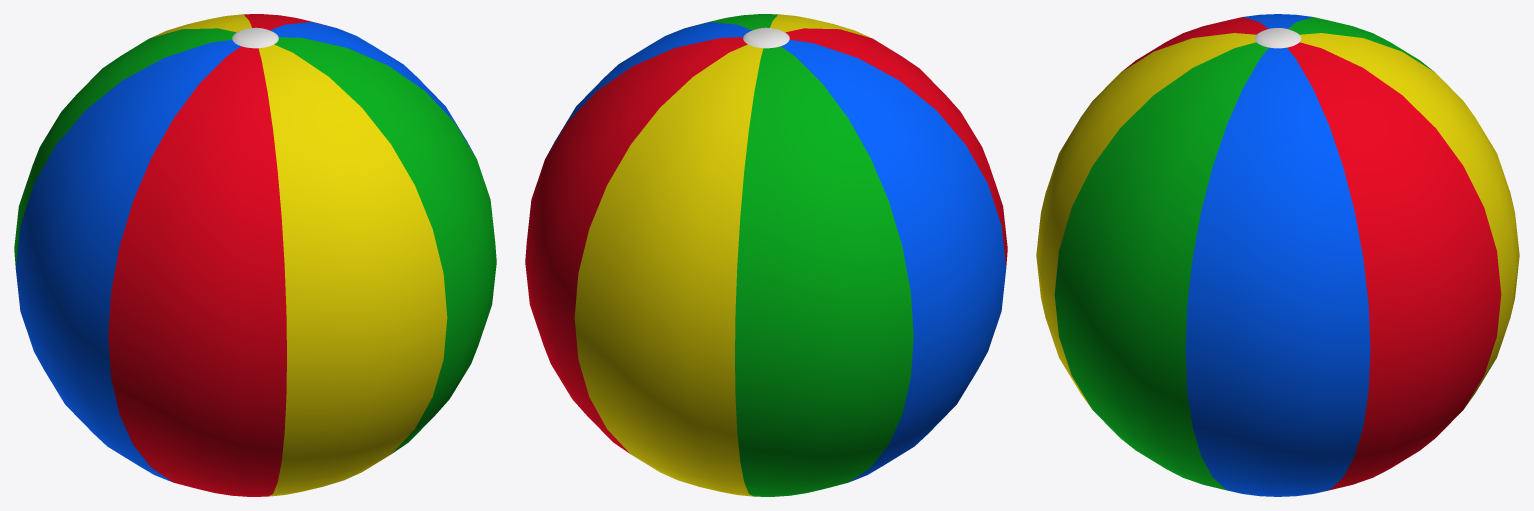
The model's file is BeachBall.glb.
3 renders of one model, left to right at view 1: azimuth 30°, elevation 25°; view 2: azimuth 150°, elevation 25°; view 3: azimuth 270°, elevation 25°, orthographic.
Parts seen in each view (by area): view 1: Sphere.004, Sphere.002, Sphere.003, Sphere, Sphere.001; view 2: Sphere, Sphere.002, Sphere.003, Sphere.004, Sphere.001; view 3: Sphere.003, Sphere, Sphere.004, Sphere.002, Sphere.001.
Boxes of the visible parts, x1,y1,x2,y2 form: Sphere.004: [108, 14, 327, 496]; Sphere.002: [150, 14, 447, 496]; Sphere.003: [15, 22, 475, 481]; Sphere: [14, 28, 496, 453]; Sphere.001: [232, 27, 278, 48]; Sphere: [694, 14, 913, 496]; Sphere.002: [574, 14, 871, 496]; Sphere.003: [546, 22, 1006, 481]; Sphere.004: [525, 28, 1007, 453]; Sphere.001: [743, 27, 789, 48]; Sphere.003: [1185, 14, 1370, 496]; Sphere: [1054, 17, 1434, 492]; Sphere.004: [1121, 17, 1501, 492]; Sphere.002: [1036, 33, 1519, 407]; Sphere.001: [1254, 28, 1301, 48].
Size of the model in its own units: 2 by 2 by 2.
